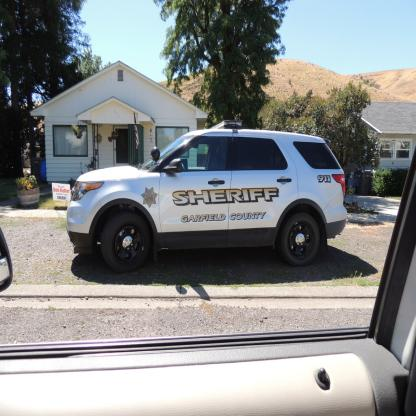Car: (1, 1, 416, 416), (66, 121, 348, 275)
